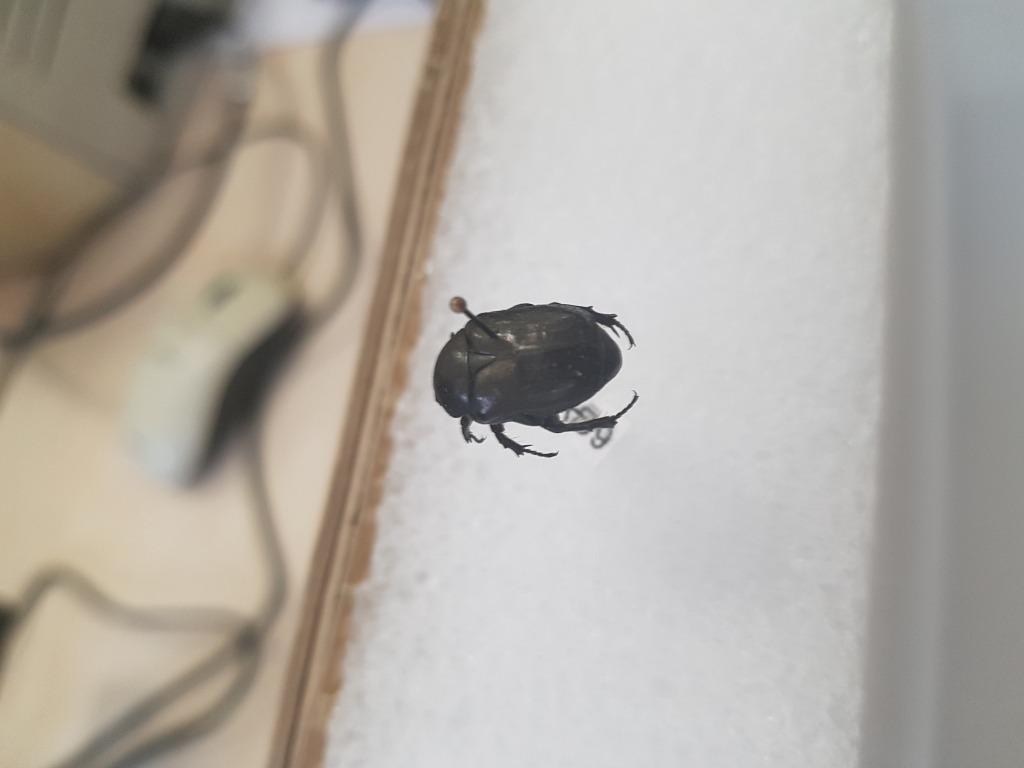Protaetia_vidua: (429, 293, 642, 457)
